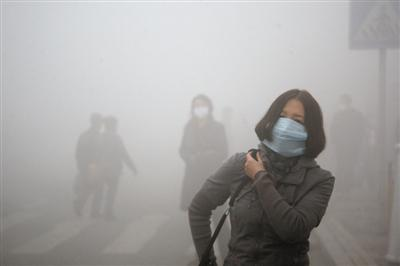OK: (270, 107, 311, 148), (195, 104, 210, 119)
